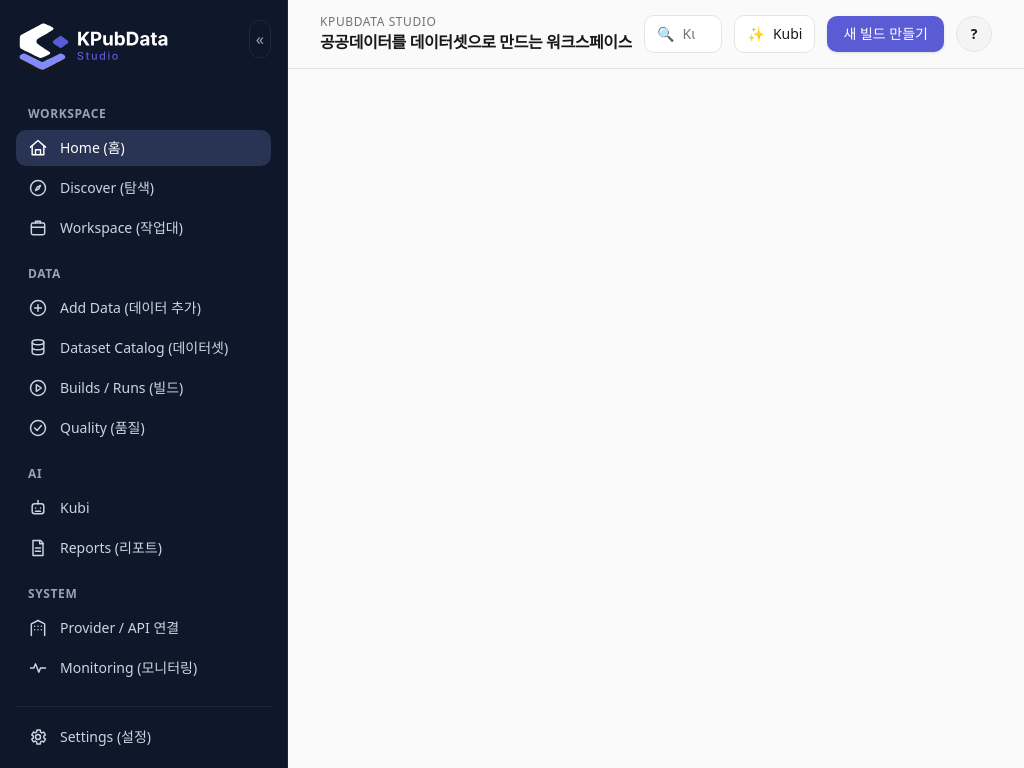
Layout desktop sidebar collapse (#247) › collapses on toggle click and can be expanded again
Step 1. Click the button named "사이드바 접기" → (260, 39), box x1=249 y1=20 x2=271 y2=58
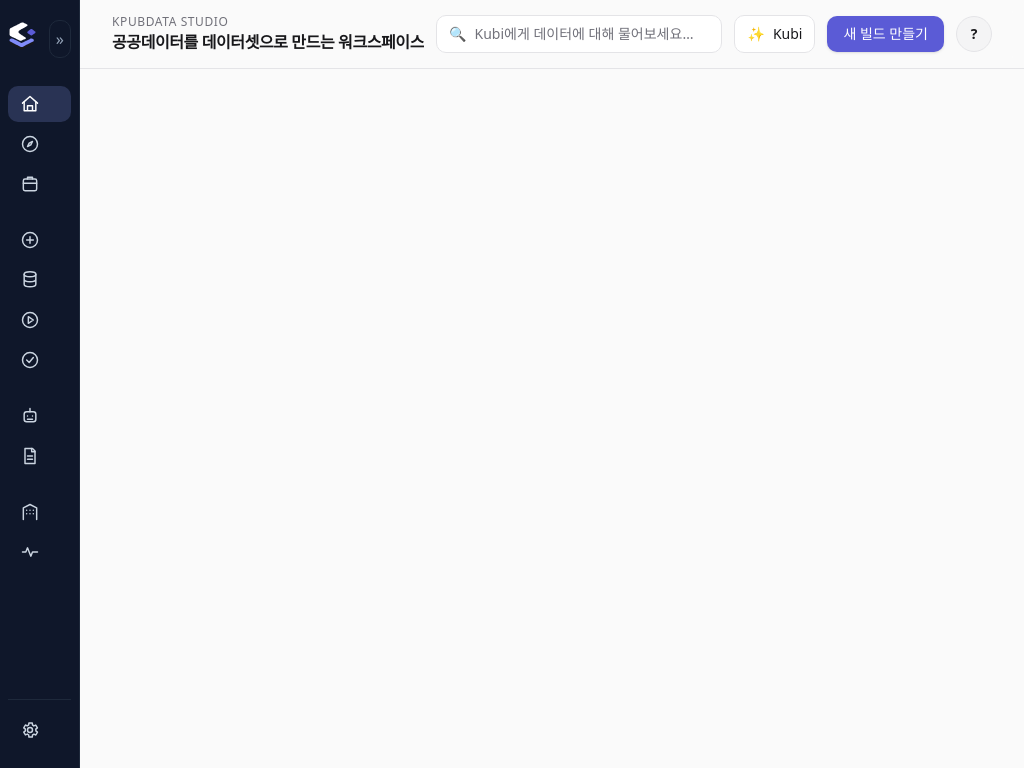
Check: the button named "사이드바 펼치기" is shown
Step 2. Click the button named "사이드바 펼치기" → (60, 39), box x1=49 y1=20 x2=71 y2=58
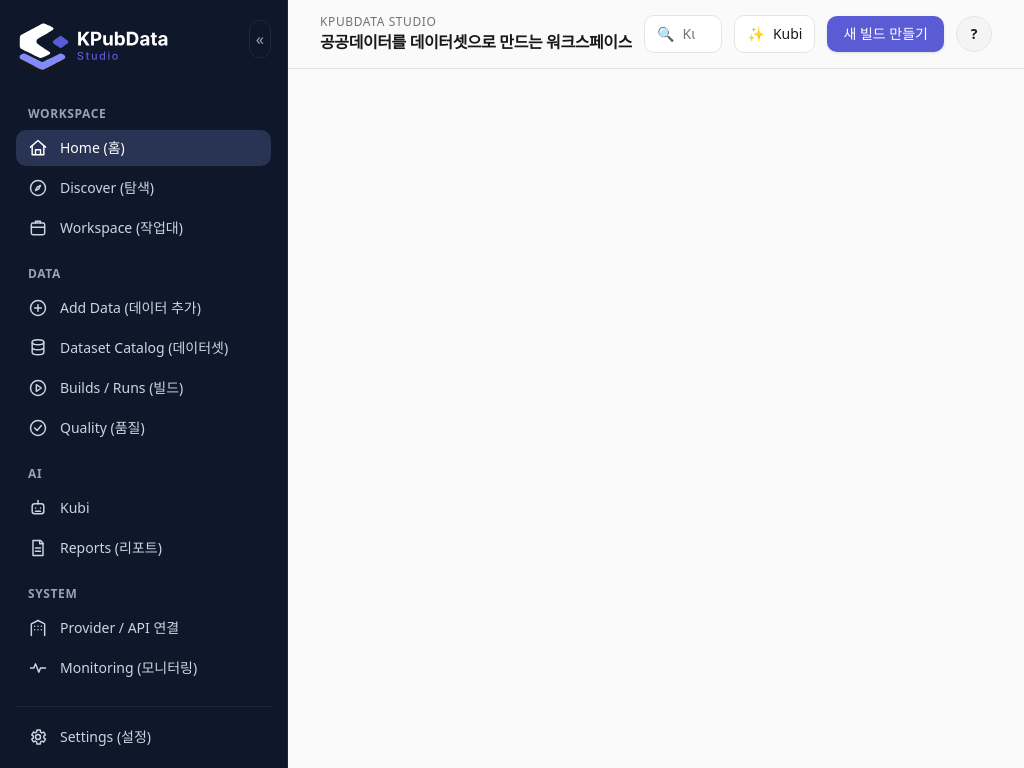
Check: the button named "사이드바 접기" is shown, box x1=249 y1=20 x2=271 y2=58
